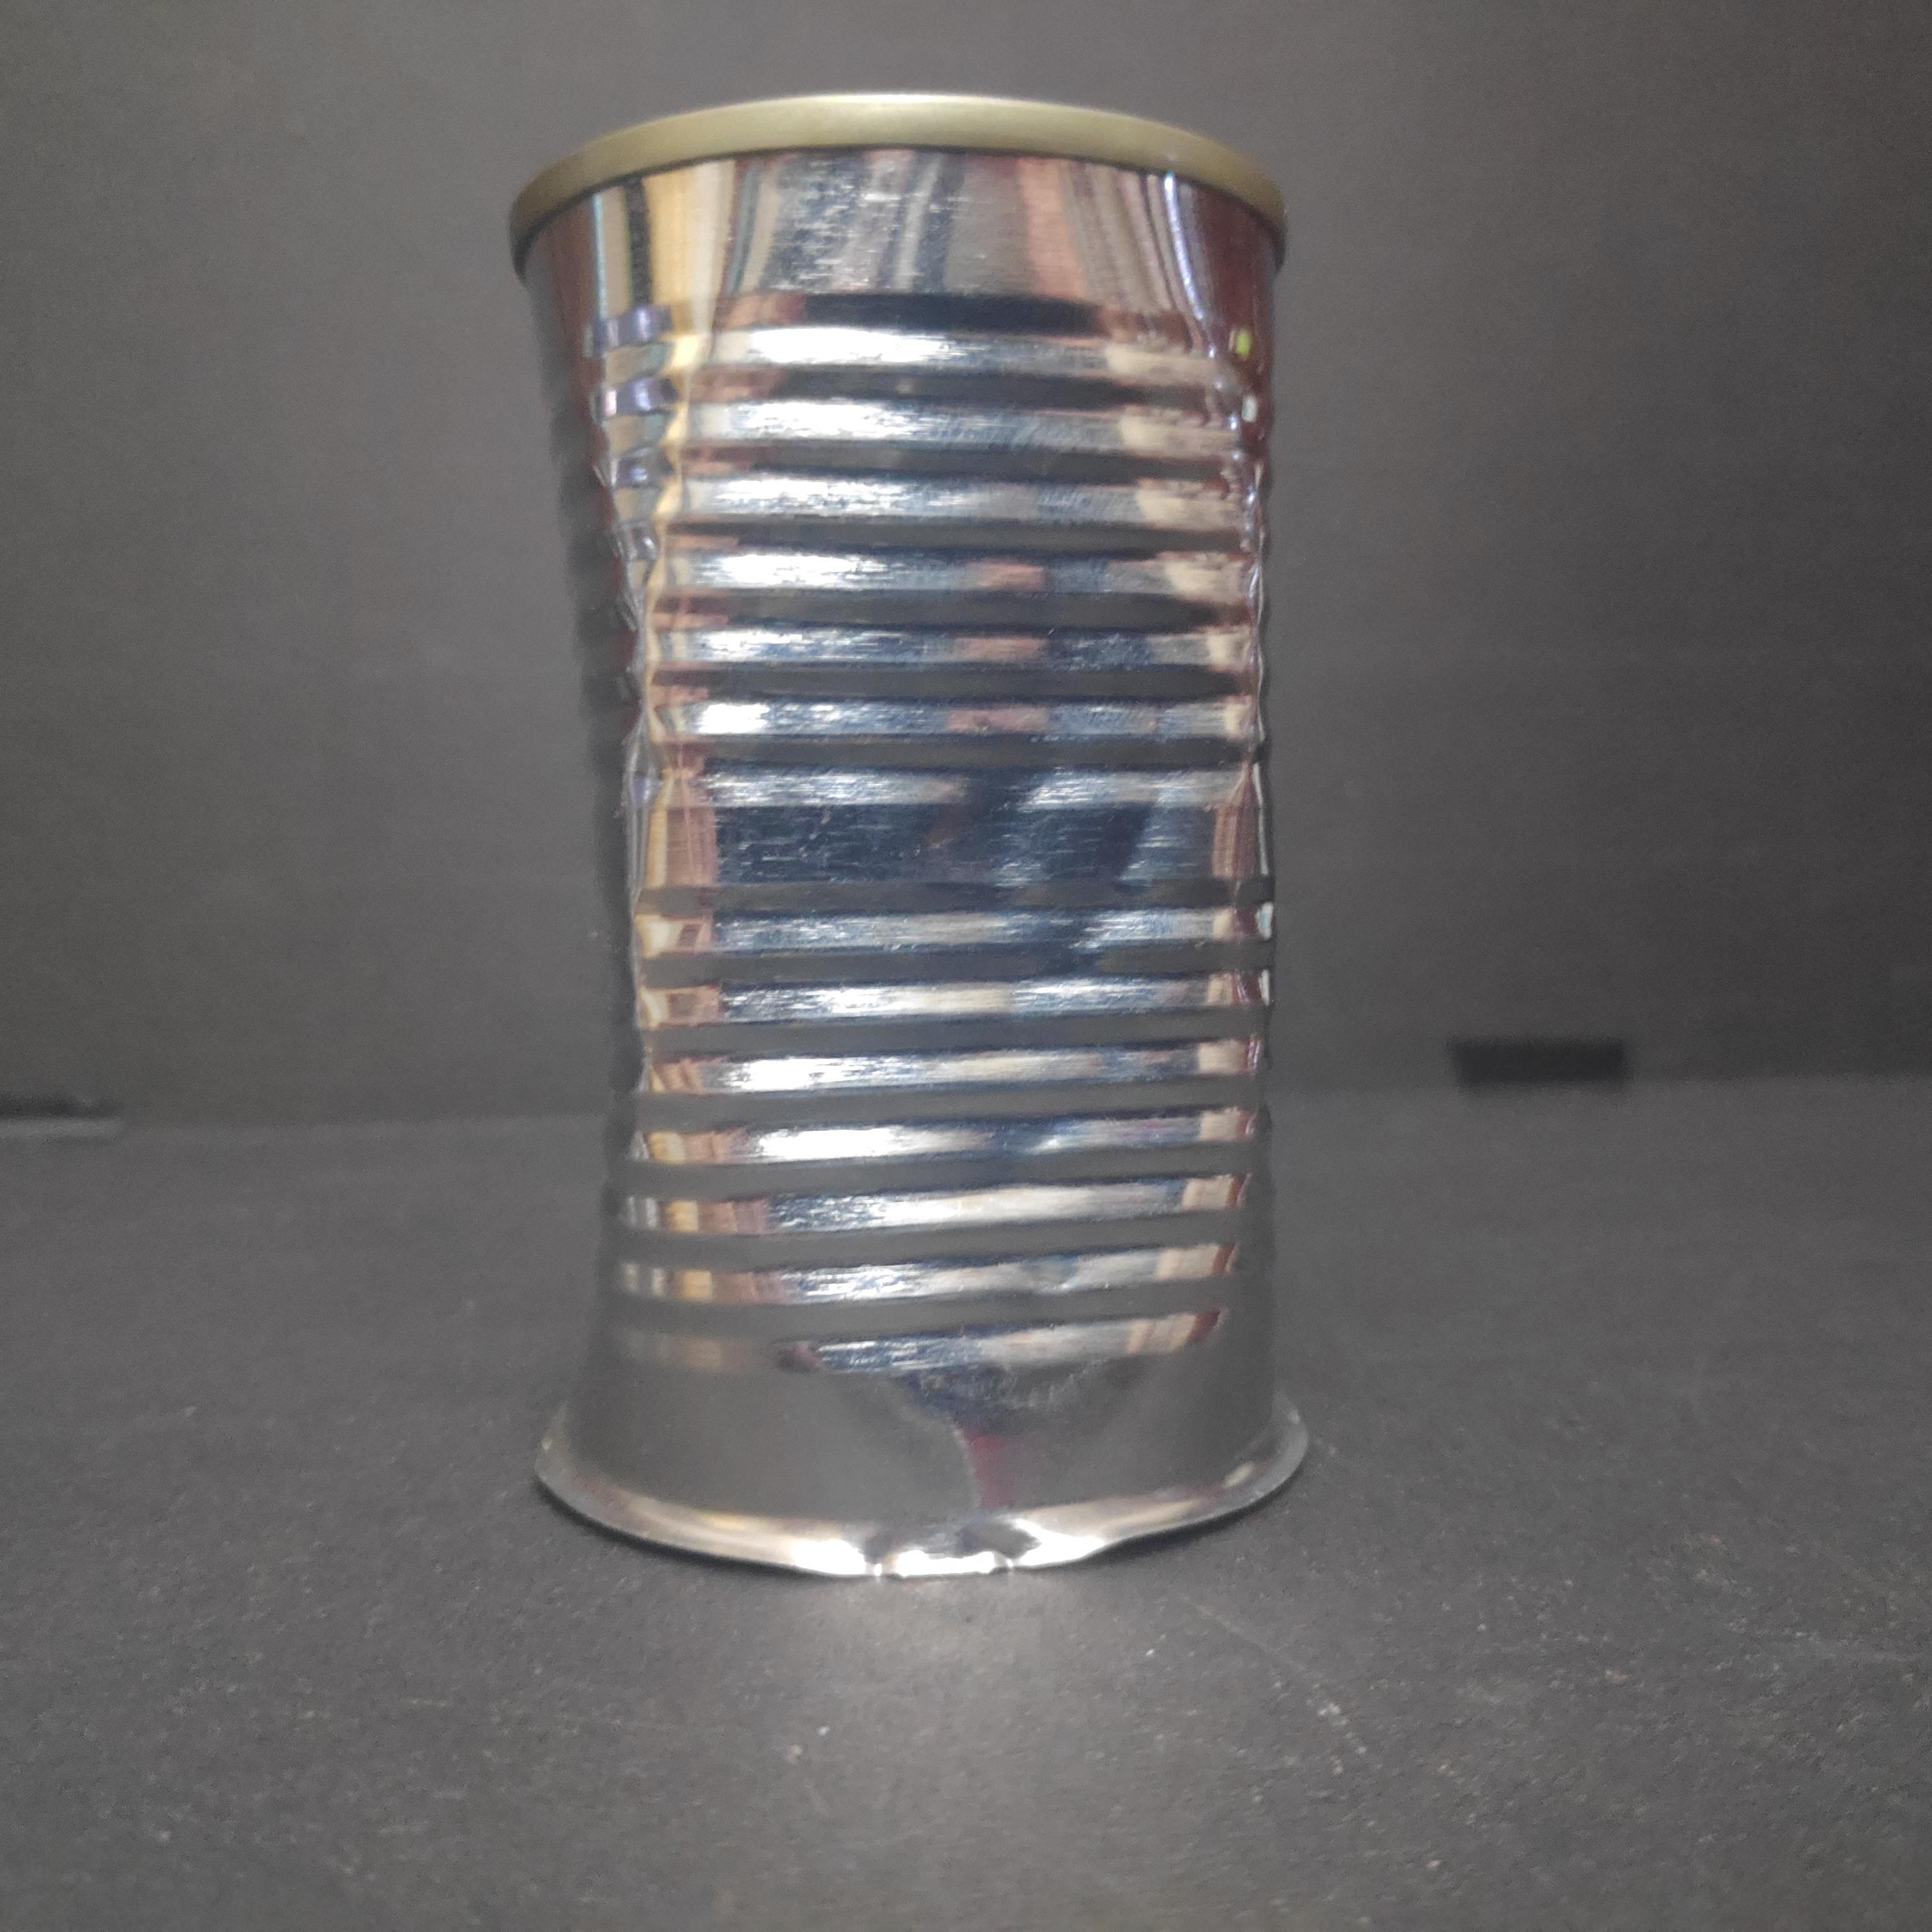Dented: (485, 74, 1336, 1591)
